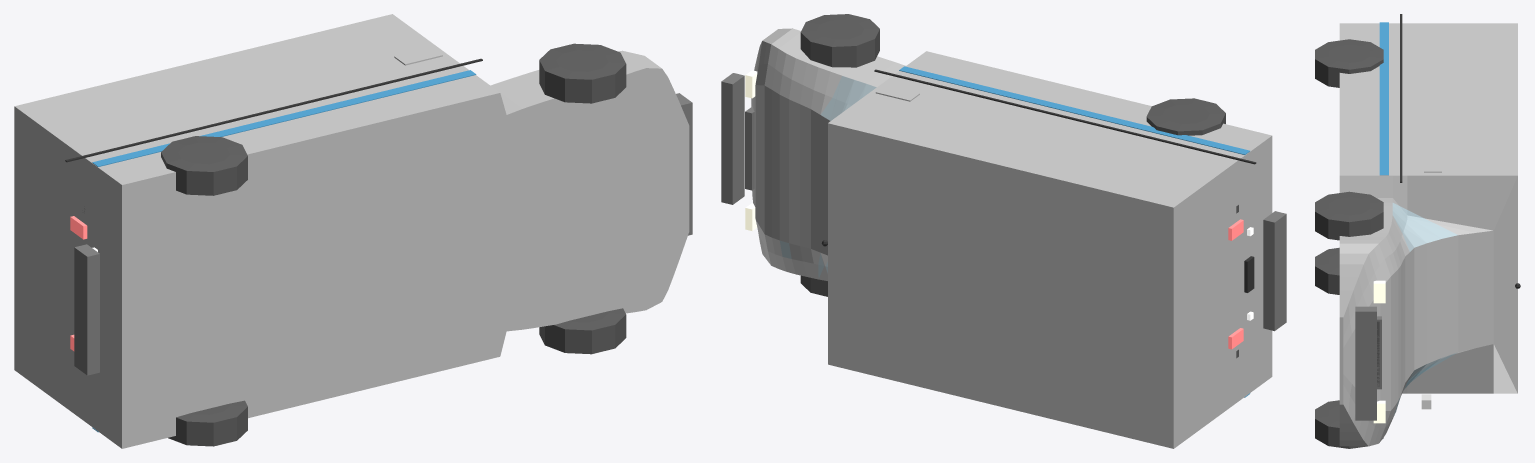
File: Vehicle_4_5.glb
3 renders of one model, left to right at view 1: azimuth 30°, elevation 25°; view 2: azimuth 150°, elevation 25°; view 3: azimuth 270°, elevation 25°, orthographic. The views are drawn at different scales.
Visible parts, largest first — view 1: Body, RearDoorR, RearDoorL, Wheel_1.5_0.95, Wheel_-1.5_0.95, BumperR, Wheel_1.5_-0.95, Wheel_-1.5_-0.95, Stripe_1.005, SlideTrack, BumperF; view 2: Body, RearDoorL, RearDoorR, Wheel_1.5_0.95, BumperF, BumperR, Wheel_-1.5_0.95, Stripe_1.005, Windows, SlideTrack, GrilleSurround; view 3: Body, Wheel_1.5_0.95, BumperF, Wheel_-1.5_0.95, Windows, Stripe_1.005, Wheel_1.5_-0.95, Wheel_-1.5_-0.95, SlideTrack, GrilleSurround, HL_0.55, Logo (+1 smaller).
Boxes of the visible parts, <box> form: Body: <box>14,14,689,448</box>; RearDoorR: <box>14,107,121,315</box>; RearDoorL: <box>14,245,121,447</box>; Wheel_1.5_0.95: <box>539,43,626,103</box>; Wheel_-1.5_0.95: <box>161,136,247,195</box>; BumperR: <box>74,244,99,375</box>; Wheel_1.5_-0.95: <box>539,308,626,354</box>; Wheel_-1.5_-0.95: <box>168,400,247,446</box>; Stripe_1.005: <box>92,70,476,166</box>; SlideTrack: <box>65,58,482,162</box>; BumperF: <box>676,93,692,235</box>; Body: <box>751,28,1272,448</box>; RearDoorL: <box>1173,266,1272,447</box>; RearDoorR: <box>1173,136,1272,327</box>; Wheel_1.5_0.95: <box>800,14,879,67</box>; BumperF: <box>721,73,744,204</box>; BumperR: <box>1263,211,1286,331</box>; Wheel_-1.5_0.95: <box>1146,98,1225,135</box>; Stripe_1.005: <box>899,66,1249,154</box>; Windows: <box>780,76,876,278</box>; SlideTrack: <box>874,69,1256,164</box>; GrilleSurround: <box>745,106,754,190</box>; Body: <box>1339,23,1517,446</box>; Wheel_1.5_0.95: <box>1315,191,1383,240</box>; BumperF: <box>1355,306,1376,420</box>; Wheel_-1.5_0.95: <box>1315,39,1383,87</box>; Windows: <box>1392,203,1457,416</box>; Stripe_1.005: <box>1379,22,1388,175</box>; Wheel_1.5_-0.95: <box>1315,400,1383,448</box>; Wheel_-1.5_-0.95: <box>1315,247,1339,294</box>; SlideTrack: <box>1400,14,1402,182</box>; GrilleSurround: <box>1377,316,1381,389</box>; HL_0.55: <box>1373,280,1385,303</box>; Logo: <box>1424,156,1441,172</box>.
Bounding box in the file's own units: 4.8 × 2.09 × 1.71.
